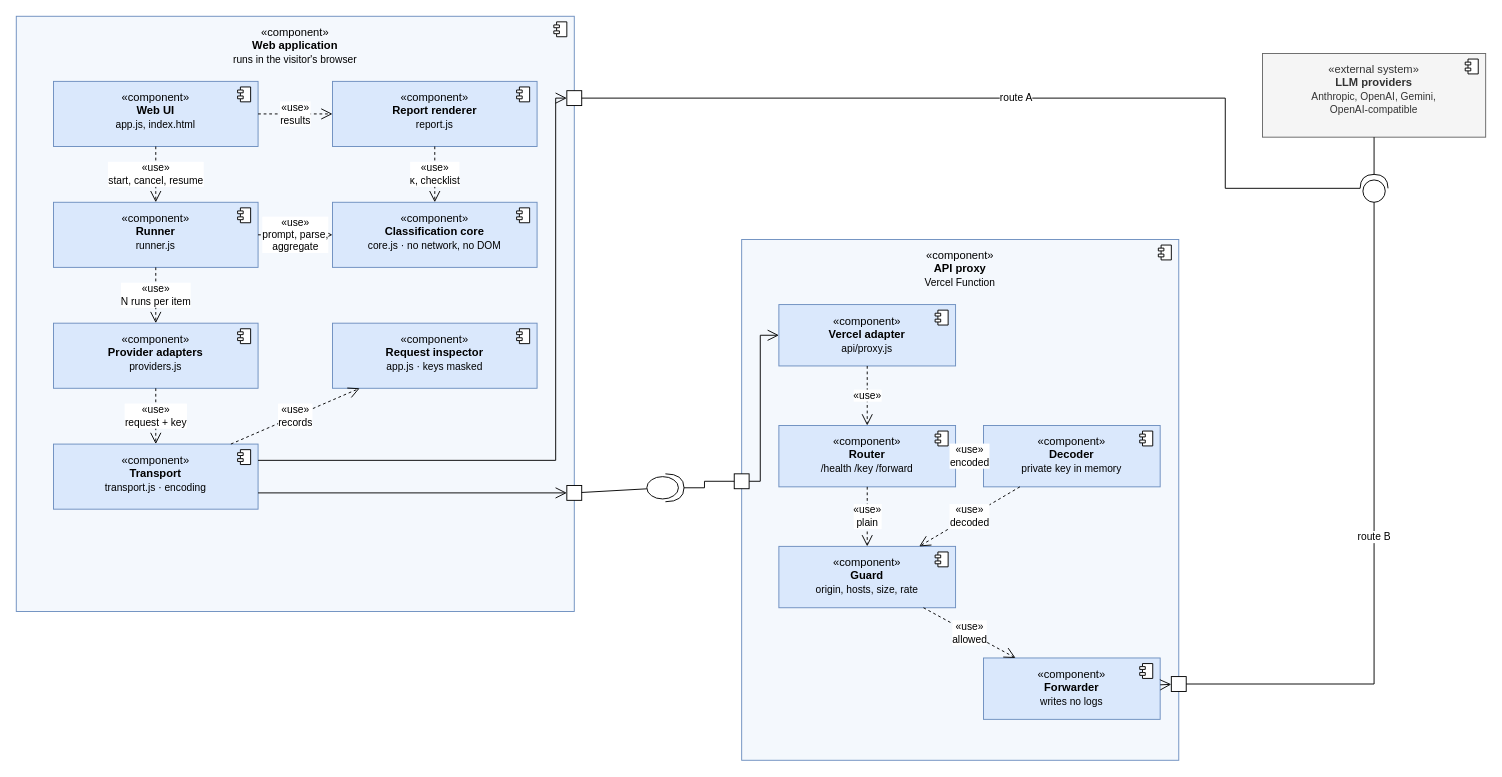
Image size: 1502x777. Some labels were removed from this diagram. The centre of each missing label's shape, as x and y in pixels:
Provider API (HTTPS, JSON): pixel 1373 187
Proxy API: pixel 665 487
